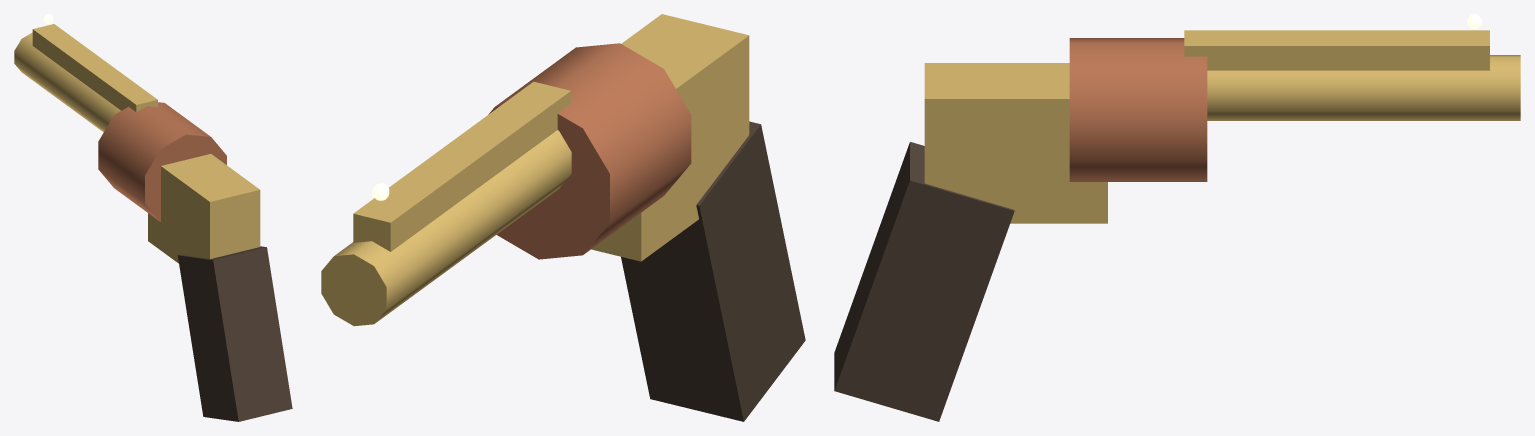
Rendered from lucky_penny_revolver.glb.
The picture shows the model from 3 angles, left to right: view 1: azimuth 30°, elevation 25°; view 2: azimuth 150°, elevation 25°; view 3: azimuth 270°, elevation 25°; orthographic projection. The views are drawn at different scales.
Visible parts, largest first — view 1: Merged; view 2: Merged; view 3: Merged.
Part boxes in pixels (<box>): Merged: <box>14,14,292,421</box>; Merged: <box>321,14,805,421</box>; Merged: <box>834,14,1520,421</box>.
Bounding box in the file's own units: 0.089 × 0.2732 × 0.4377.
